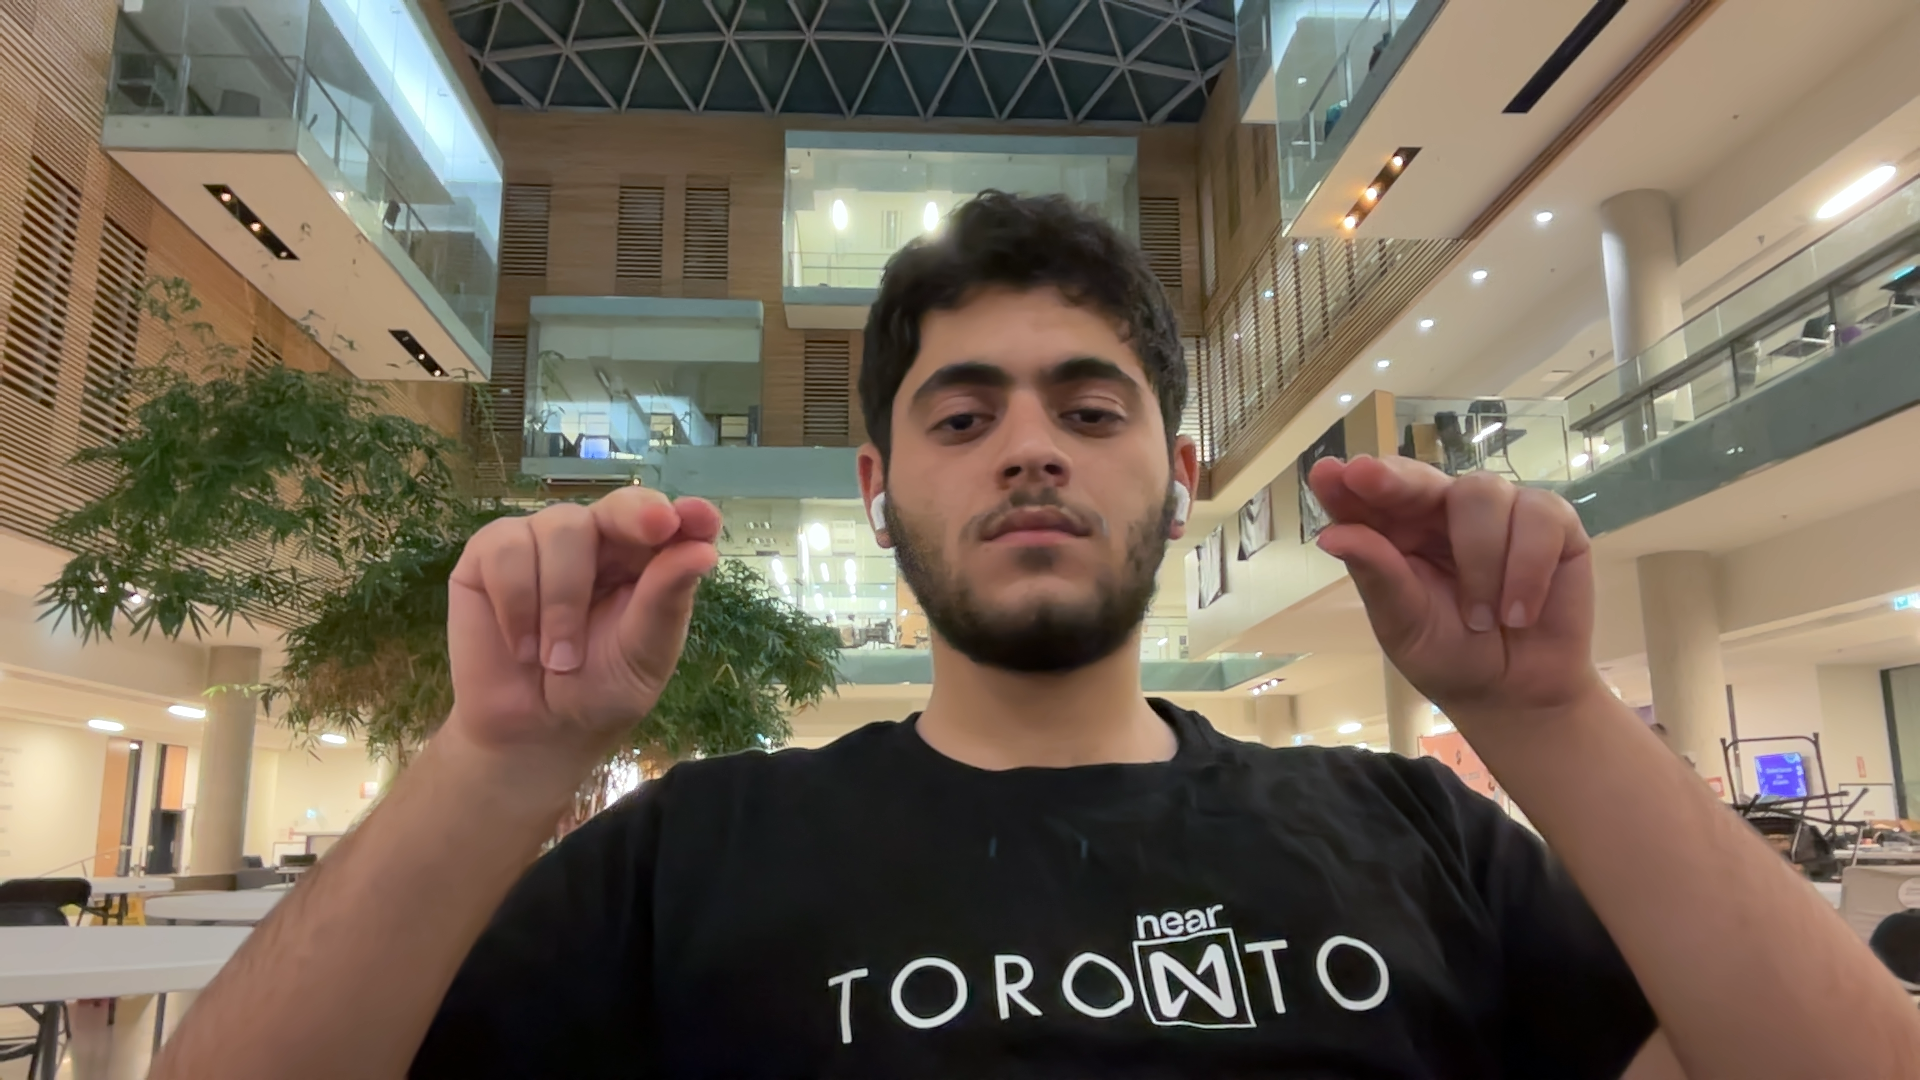no: (1273, 392, 1658, 733), (407, 450, 750, 766)
